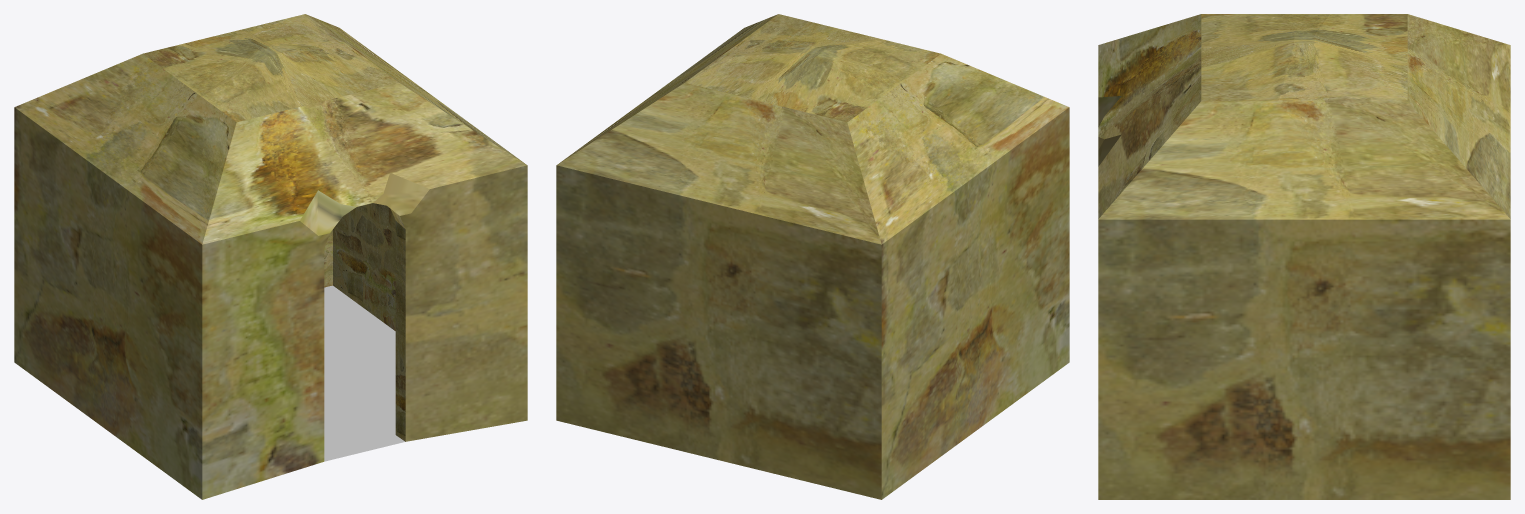
Rendered from cell-1-deadend.fbx.
The picture shows the model from 3 angles, left to right: view 1: azimuth 30°, elevation 25°; view 2: azimuth 150°, elevation 25°; view 3: azimuth 270°, elevation 25°; orthographic projection. The views are drawn at different scales.
Visible parts, largest first — view 1: cell-deadend; view 2: cell-deadend; view 3: cell-deadend.
Boxes of the visible parts, x1,y1,x2,y2 form: cell-deadend: (14, 14, 527, 499); cell-deadend: (556, 14, 1069, 499); cell-deadend: (1098, 14, 1510, 499).
Bounding box in the file's own units: 400 × 400 × 400.
